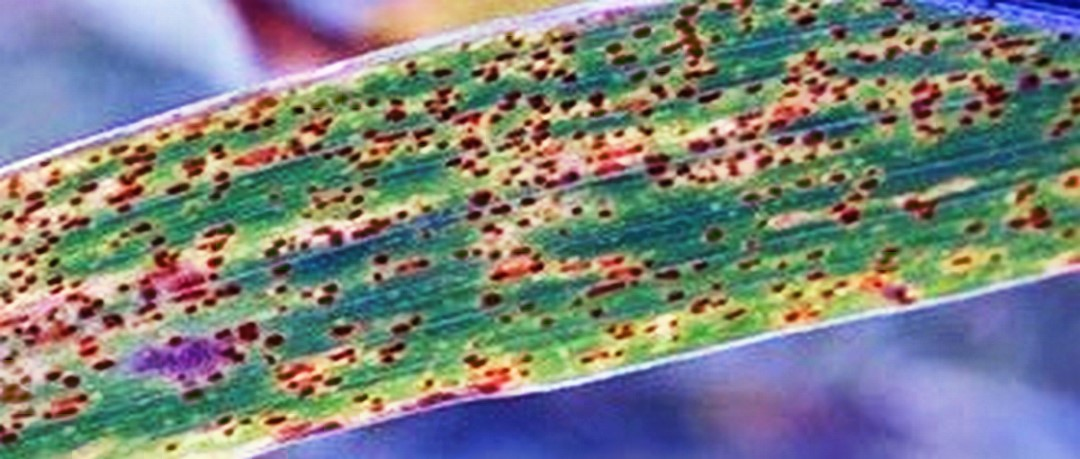Leaf Rust: (85, 13, 891, 429)
